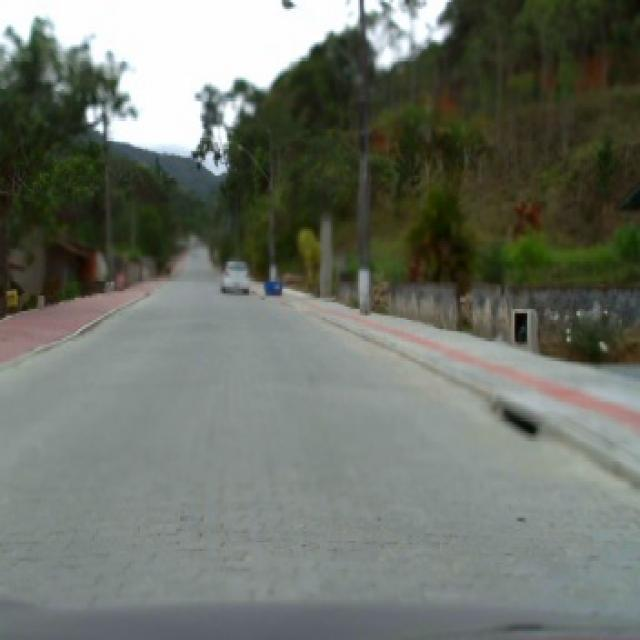Poth-hole: (498, 402, 540, 438)
